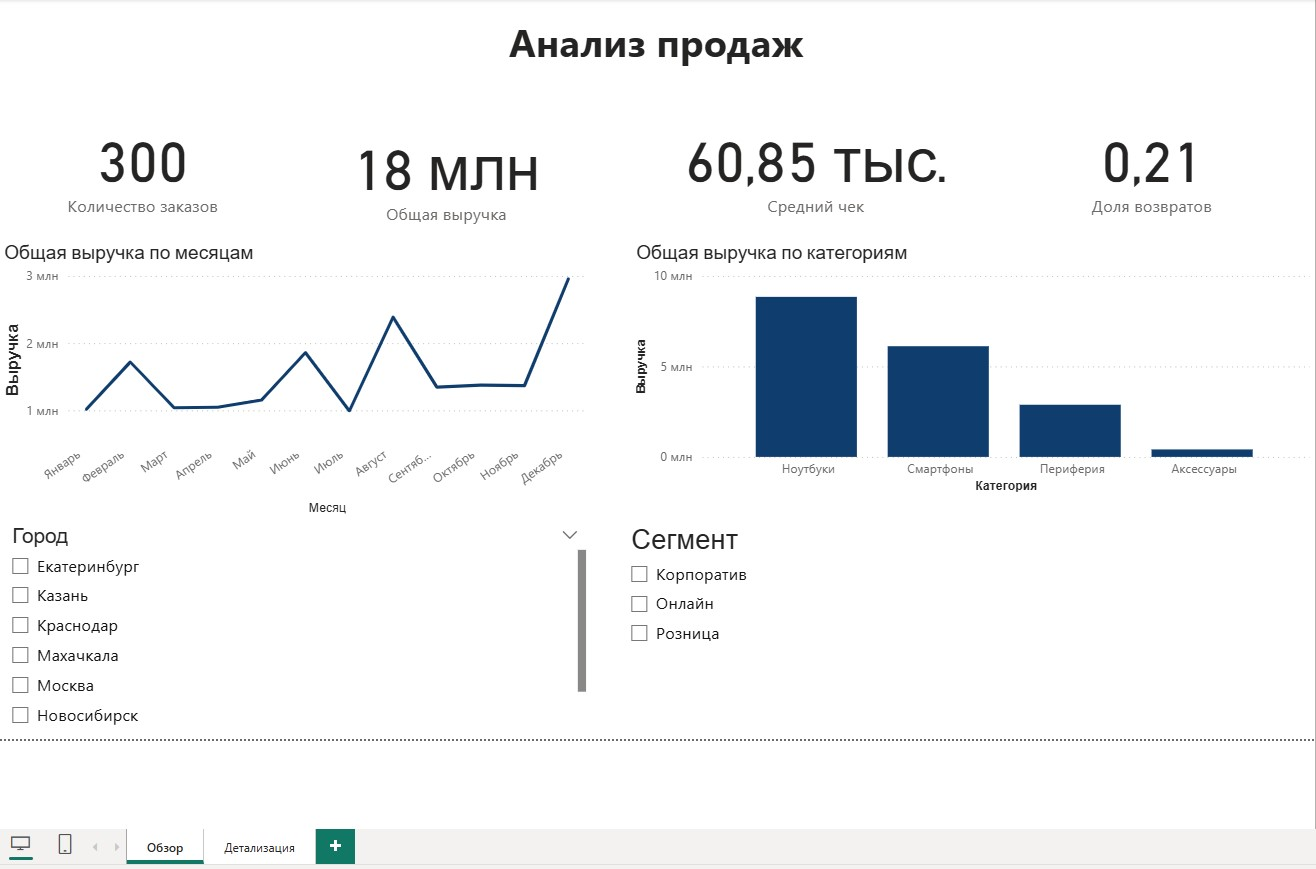

The dashboard page shown, as its layout file describes it:
{"tool":"powerbi","page":{"name":"Обзор","canvas":[1280,720],"ordinal":0},"visuals":[{"type":"card","fields":{"Values":["sales.Общая выручка"]},"box":[295,74.9,281,190.8],"z":0},{"type":"card","fields":{"Values":["sales.Количество заказов"]},"box":[0,66.7,279.8,190.8],"z":1000},{"type":"card","fields":{"Values":["sales.Средний чек"]},"box":[654.4,66.7,279.8,190.8],"z":2000},{"type":"card","fields":{"Values":["sales.Доля возвратов"]},"box":[981.1,66.7,279.8,190.8],"z":3000},{"type":"lineChart","title":"Общая выручка по месяцам","fields":{"Category":["sales.Начало месяца.Изменение.Иерархия дат.Месяц"],"Y":["sales.Общая выручка"]},"box":[0,236.4,575.8,269.4],"z":4000},{"type":"clusteredColumnChart","title":"Общая выручка по категориям","fields":{"Category":["products.Category"],"Y":["sales.Общая выручка"]},"box":[614.7,236.4,665.3,248],"z":5000},{"type":"slicer","fields":{"Values":["customers.City"]},"box":[0,505.8,575.8,214],"z":6000},{"type":"slicer","fields":{"Values":["customers.Segment"]},"box":[602.1,505.8,519.4,202.3],"z":7000},{"type":"textbox","box":[427.3,11.7,425,63.2],"z":7001}]}

Visuals, with their boxes on the page's 1280x720 design canvas (x1, y1, x2, y2). These are canvas units, not pixel positions in the 1316x869 screenshot, which may show the page scaled, cropped or inside an application window:
card - sales.Общая выручка: [x1=295, y1=75, x2=576, y2=266]
card - sales.Количество заказов: [x1=0, y1=67, x2=280, y2=258]
card - sales.Средний чек: [x1=654, y1=67, x2=934, y2=258]
card - sales.Доля возвратов: [x1=981, y1=67, x2=1261, y2=258]
"Общая выручка по месяцам" lineChart: [x1=0, y1=236, x2=576, y2=506]
"Общая выручка по категориям" clusteredColumnChart: [x1=615, y1=236, x2=1280, y2=484]
slicer - customers.City: [x1=0, y1=506, x2=576, y2=720]
slicer - customers.Segment: [x1=602, y1=506, x2=1122, y2=708]
textbox: [x1=427, y1=12, x2=852, y2=75]
